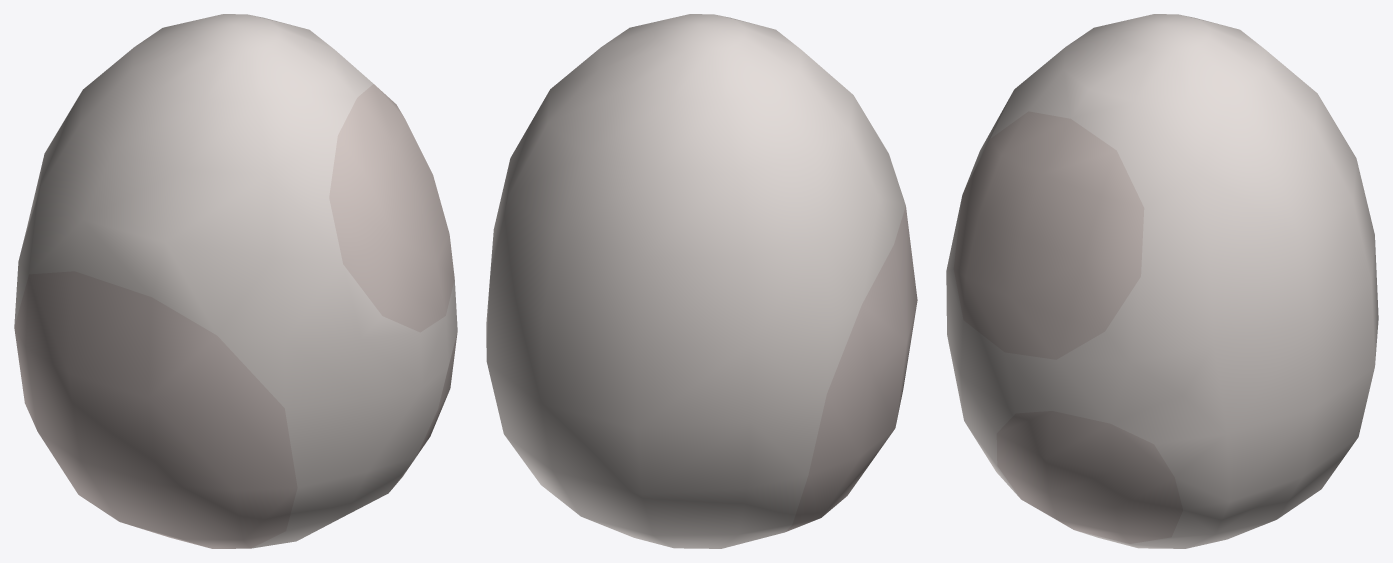
3 renders of one model, left to right at view 1: azimuth 30°, elevation 25°; view 2: azimuth 150°, elevation 25°; view 3: azimuth 270°, elevation 25°, orthographic.
Parts seen in each view (by area): view 1: model_0.111; view 2: model_0.111; view 3: model_0.111.
Part boxes in pixels (left/top/right/bottom): model_0.111: left=14, top=14, right=457, bottom=548; model_0.111: left=486, top=14, right=917, bottom=548; model_0.111: left=946, top=14, right=1378, bottom=548.
Bounding box in the file's own units: 3 × 3.79 × 2.97.
